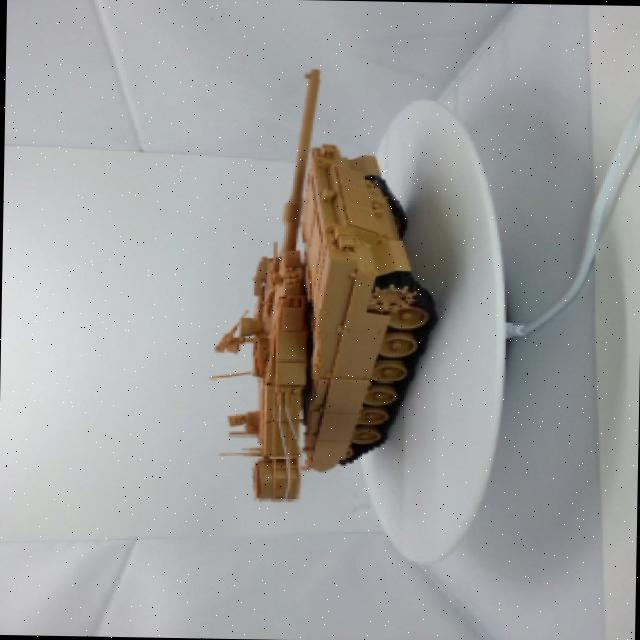korea tank: (193, 39, 450, 519)
